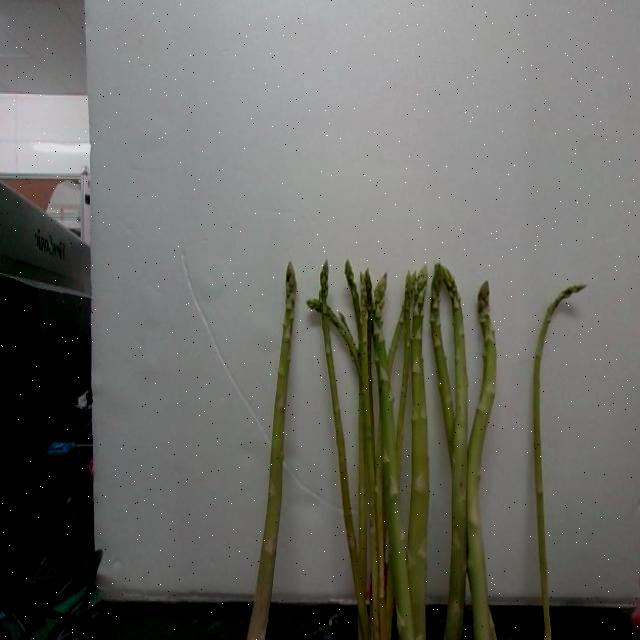aspargus: (244, 264, 297, 640), (531, 285, 583, 640), (372, 271, 416, 640)
